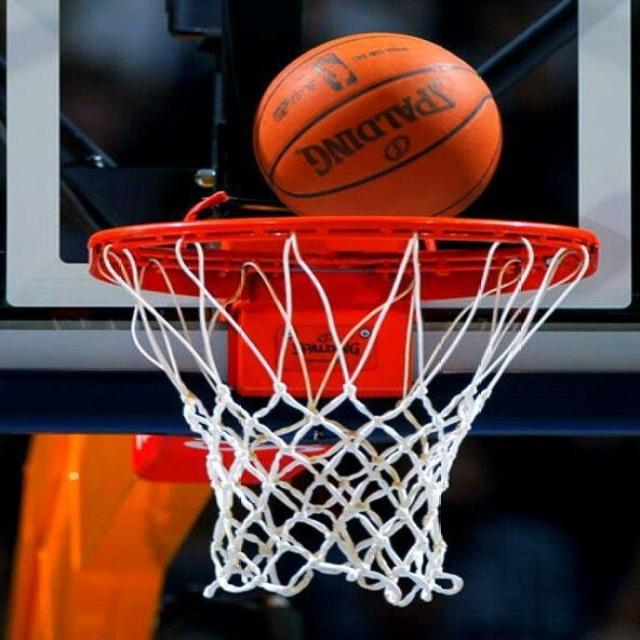hoop: (55, 207, 614, 616)
